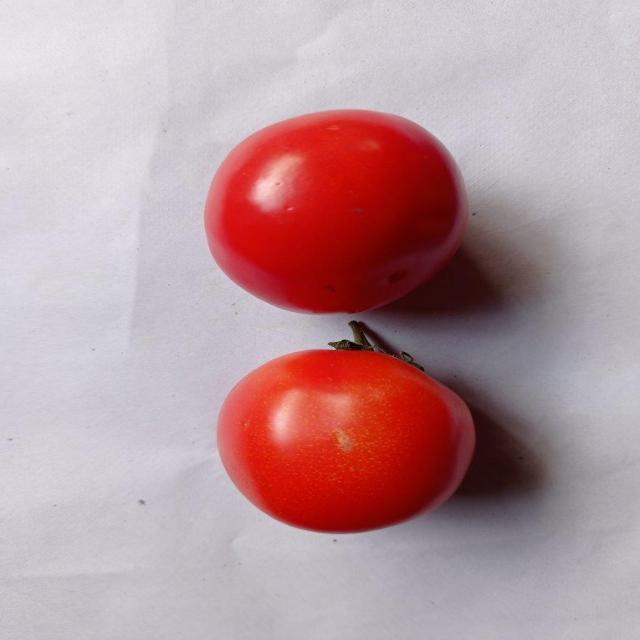Ripe: (201, 104, 471, 319), (206, 340, 480, 540)
